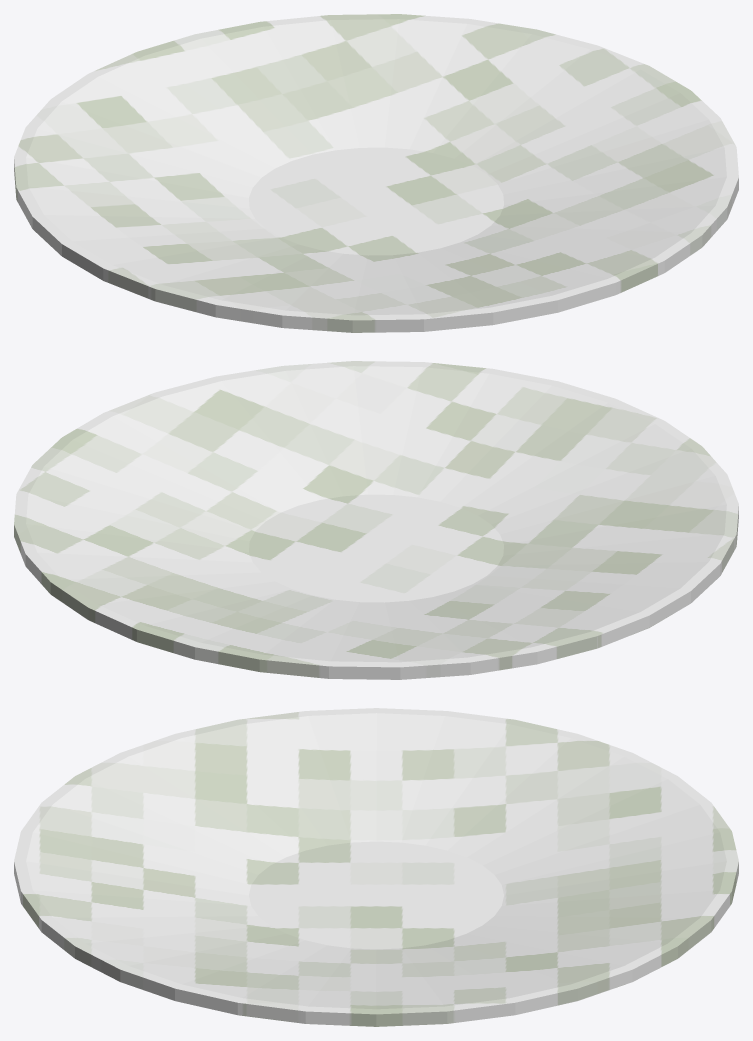
The model's file is plate.fbx.
The picture shows the model from 3 angles, top to bottom: view 1: azimuth 30°, elevation 25°; view 2: azimuth 150°, elevation 25°; view 3: azimuth 270°, elevation 25°; orthographic projection.
Visible parts, largest first — view 1: plate; view 2: plate; view 3: plate.
Boxes of the visible parts, <box> form: plate: <box>14,14,738,332</box>; plate: <box>14,361,738,679</box>; plate: <box>14,708,738,1026</box>.
Size of the model in its own units: 200 by 13.43 by 200.
1 material, 1 textured.
